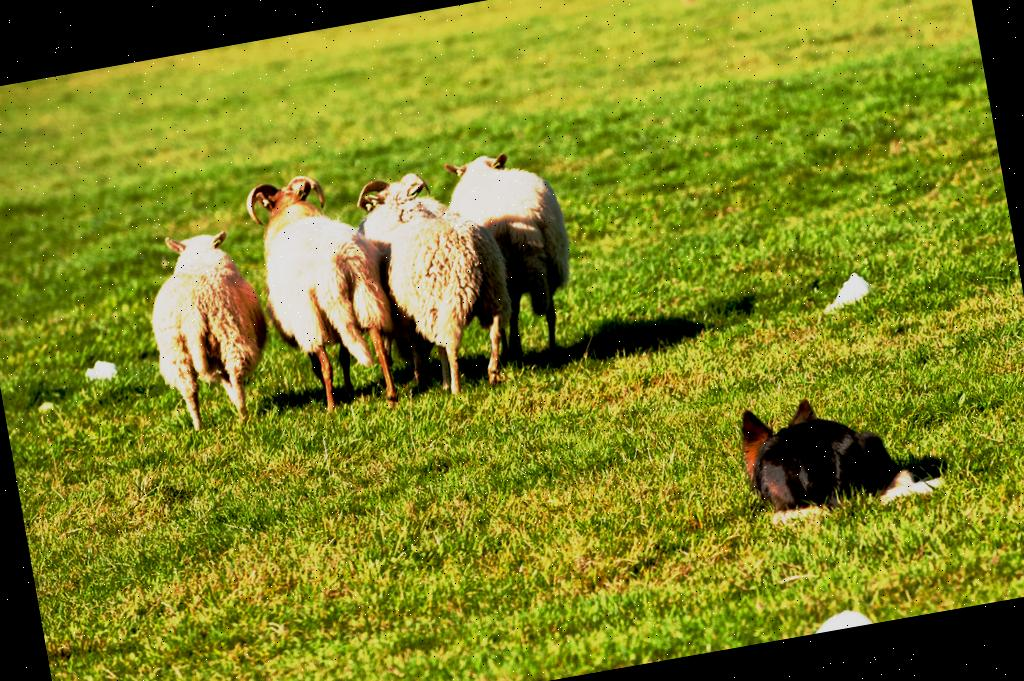Sheep: (352, 158, 525, 406), (246, 162, 408, 423), (136, 220, 284, 436), (444, 145, 586, 366)
